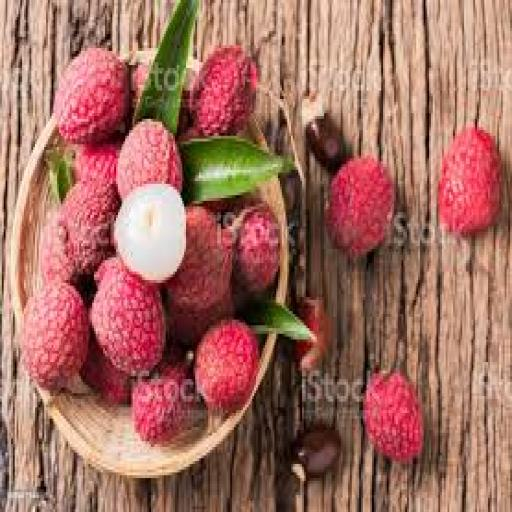lychee: (91, 258, 165, 376), (54, 49, 128, 144), (115, 184, 186, 282), (23, 283, 88, 390), (326, 159, 394, 257), (168, 207, 233, 308), (439, 128, 500, 234), (190, 46, 257, 135), (196, 320, 259, 412), (59, 182, 119, 274), (363, 371, 423, 461), (117, 119, 182, 198), (133, 365, 195, 444), (234, 204, 279, 294), (170, 292, 233, 347), (82, 337, 130, 404), (39, 213, 75, 285), (74, 142, 119, 183), (131, 63, 149, 107)
